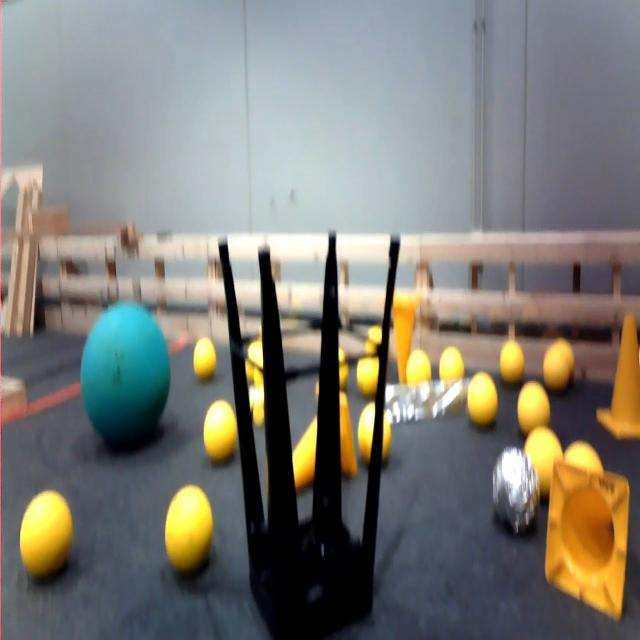fuel: (14, 481, 84, 596), (158, 478, 219, 581), (201, 394, 246, 474), (520, 418, 564, 490), (358, 399, 398, 468), (517, 368, 554, 434), (563, 431, 607, 482), (468, 367, 502, 430), (495, 327, 529, 387), (401, 339, 434, 399), (193, 332, 228, 385), (356, 348, 386, 405), (538, 344, 571, 389), (550, 330, 582, 372), (360, 315, 387, 362), (438, 346, 465, 391), (246, 330, 264, 390), (333, 347, 354, 394)
